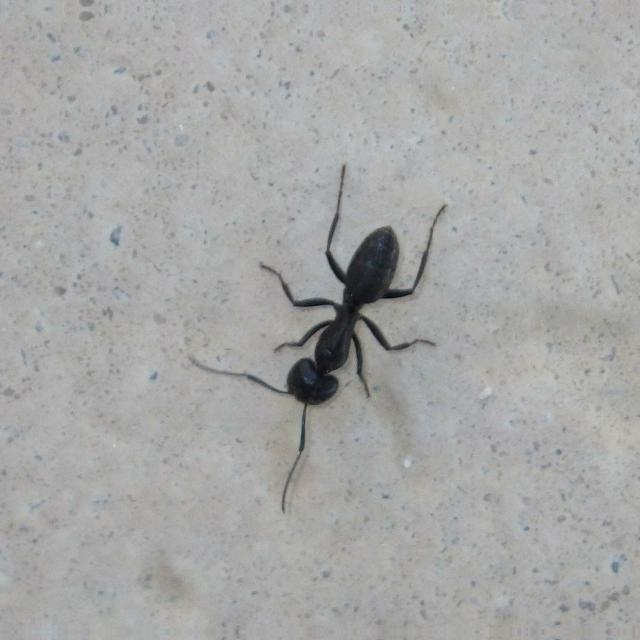Camponotus: (222, 174, 454, 442)
